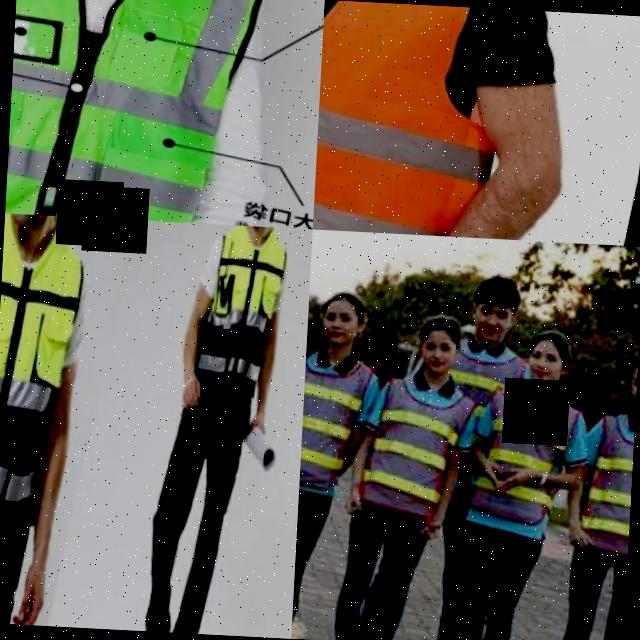vest: (5, 0, 286, 227), (312, 0, 520, 240), (0, 230, 101, 543), (192, 232, 303, 436), (468, 389, 586, 536), (354, 386, 472, 512), (300, 364, 374, 484), (578, 413, 636, 566)
